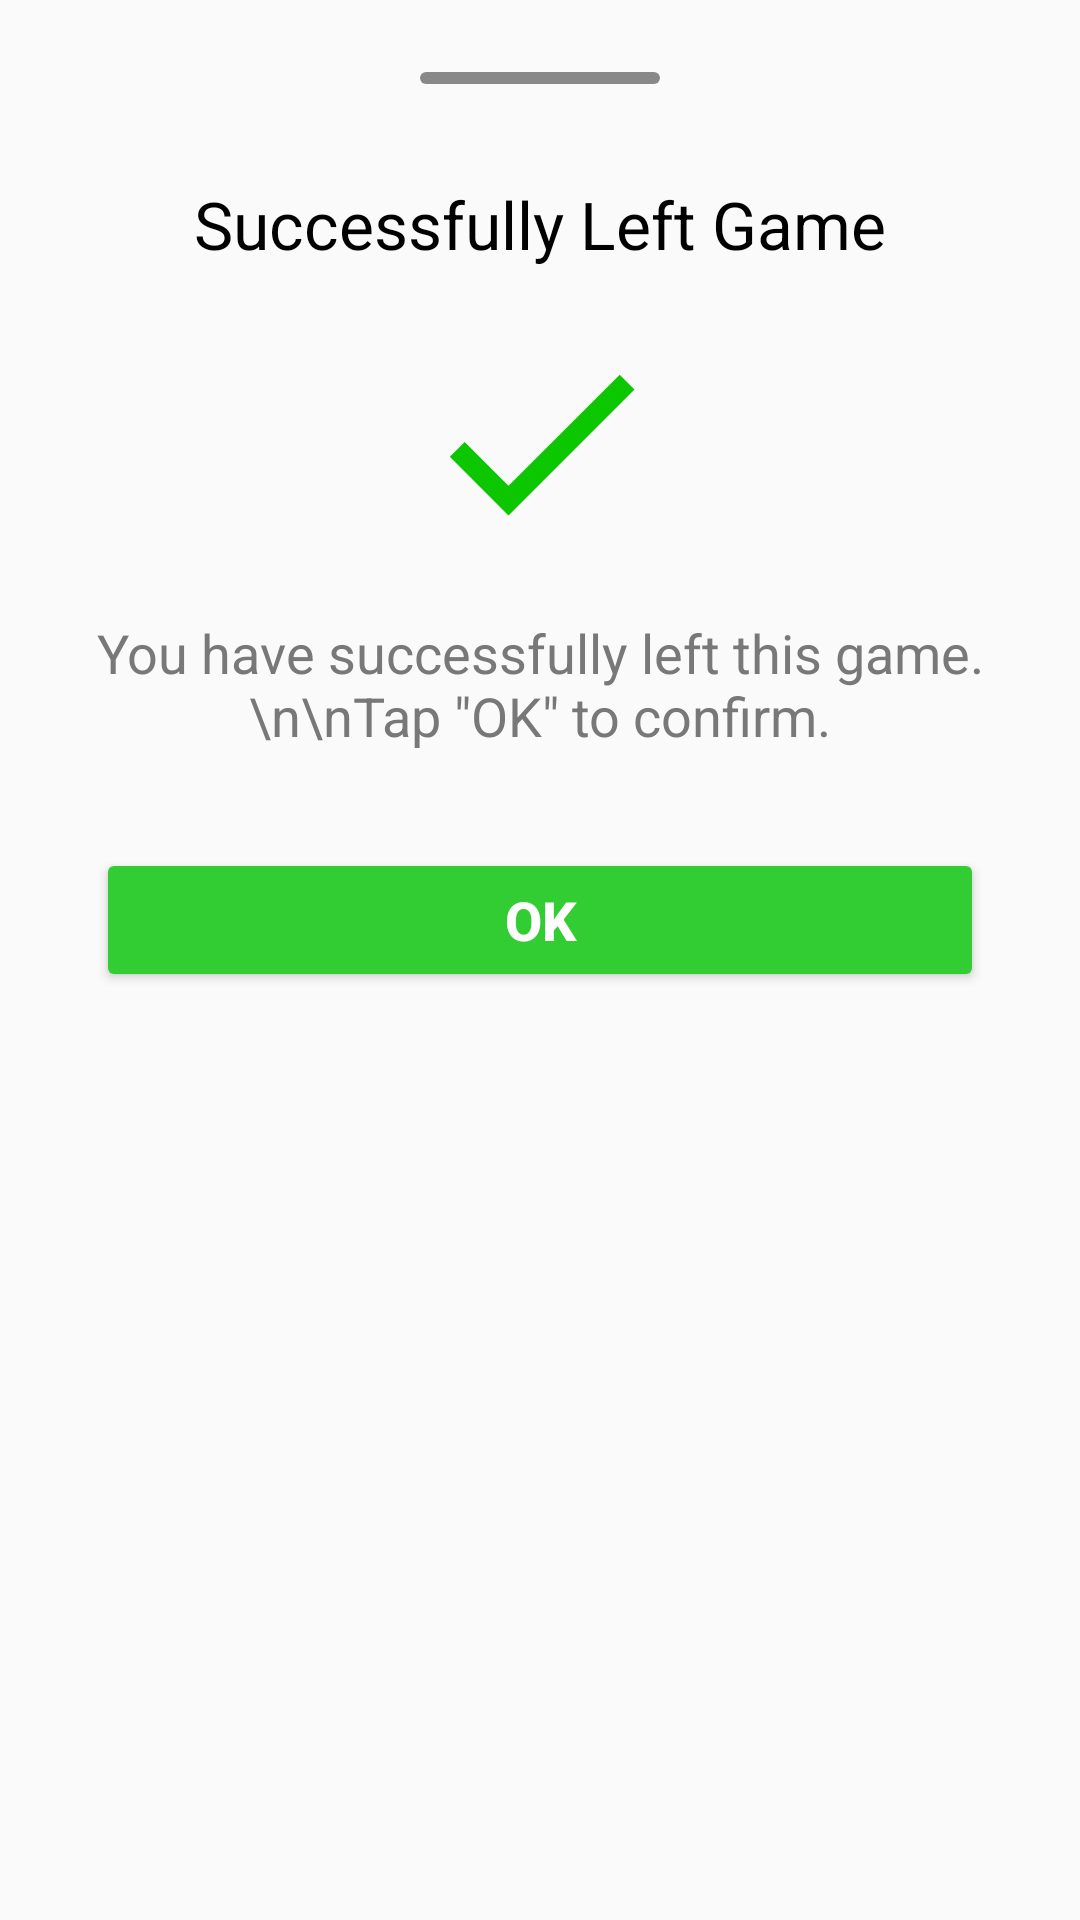

Named icons in this screenshot (1080px×1920px) and their bounding boxes, box(x1, y1, x2, y2):
check: box(450, 375, 635, 516)
